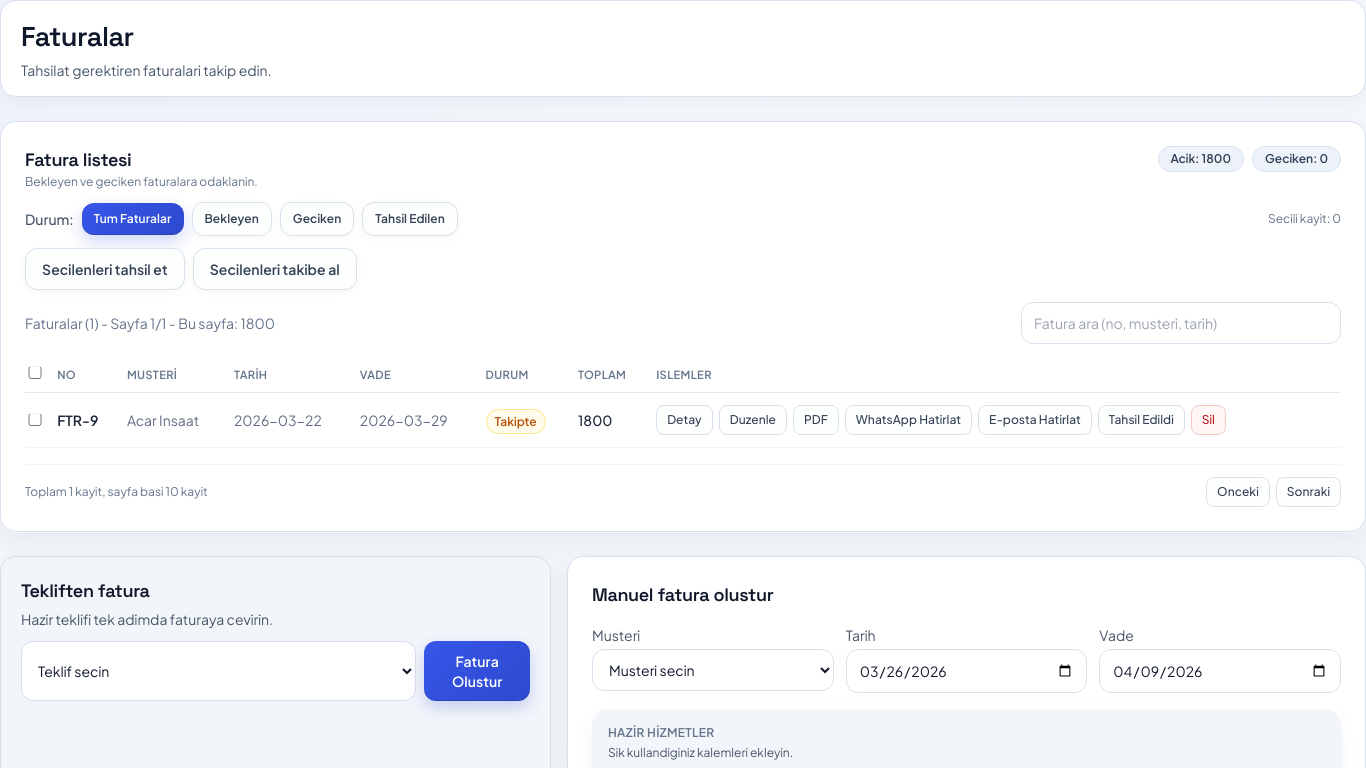
Test case: InvoicesPage › updates payment status from list action
Click the button "Tahsil Edildi". click: (1141, 420)
box: [1098, 405, 1185, 435]
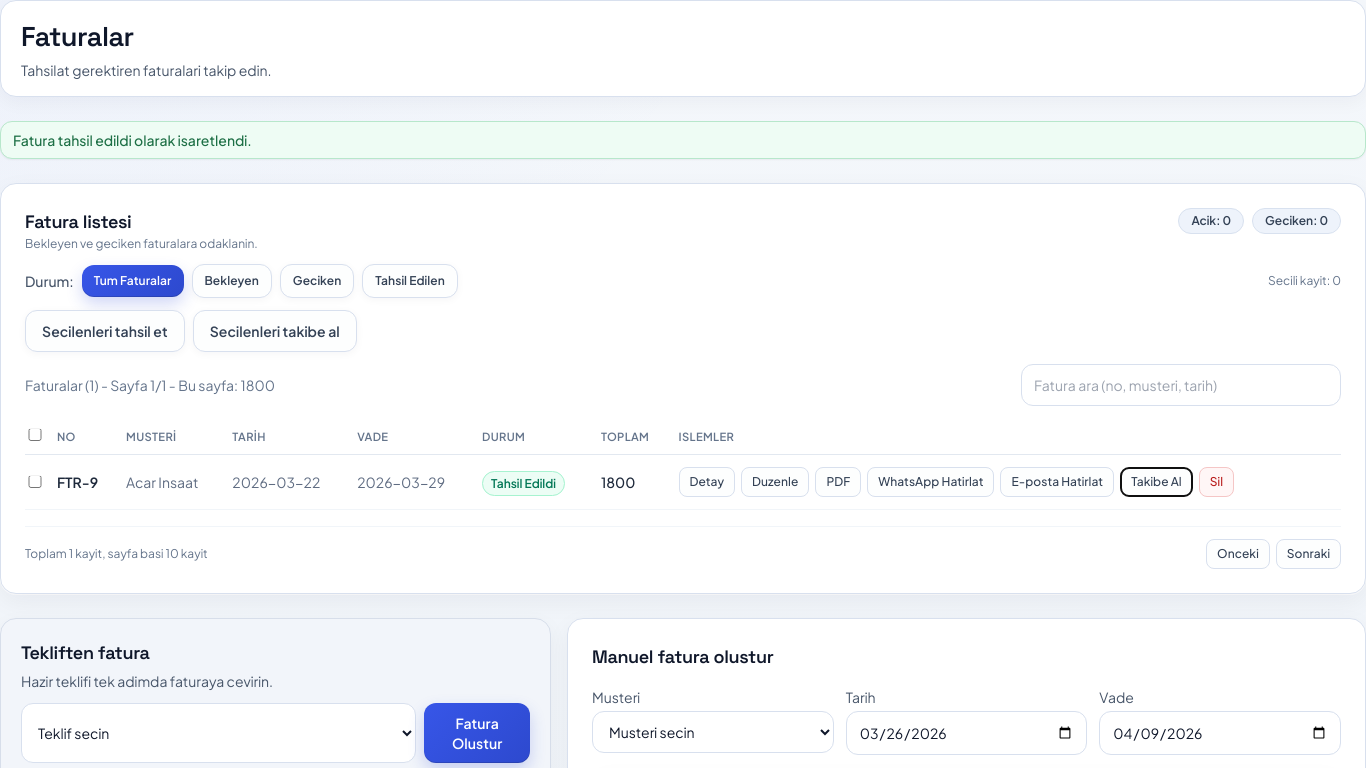
Expected: the text "Fatura tahsil edildi olarak isaretlendi." is shown, [0, 121, 1365, 159]
